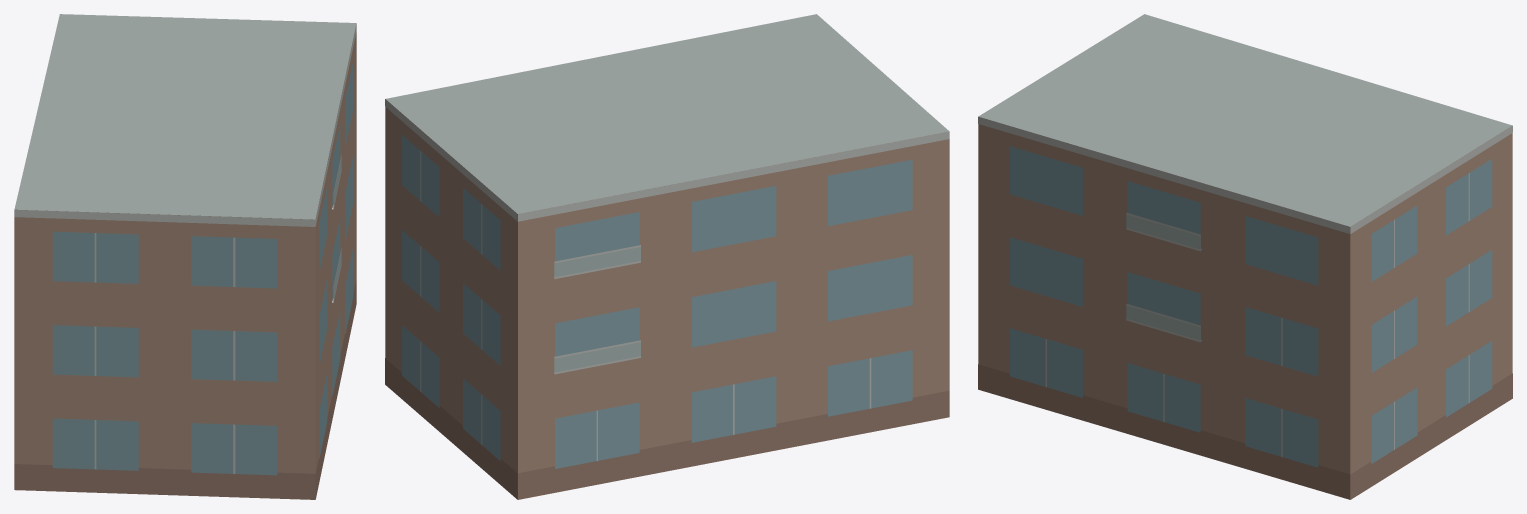
The model's file is survey-upis-32751252.glb.
3 renders of one model, left to right at view 1: azimuth 30°, elevation 25°; view 2: azimuth 150°, elevation 25°; view 3: azimuth 270°, elevation 25°, orthographic. The views are drawn at different scales.
Parts seen in each view (by area): view 1: survey-upis-32751252.tmp; view 2: survey-upis-32751252.tmp; view 3: survey-upis-32751252.tmp.
Boxes of the visible parts, x1,y1,x2,y2 form: survey-upis-32751252.tmp: (14, 14, 356, 499); survey-upis-32751252.tmp: (385, 14, 949, 499); survey-upis-32751252.tmp: (978, 14, 1512, 499).
Bounding box in the file's own units: 15.31 × 9.15 × 16.25.
